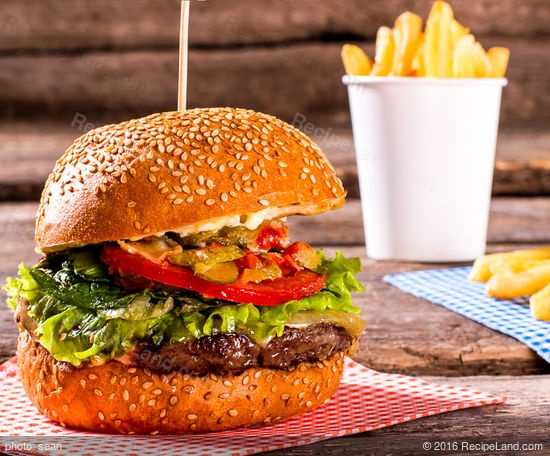background: (3, 76, 312, 309), (70, 53, 472, 227), (149, 0, 439, 56)
